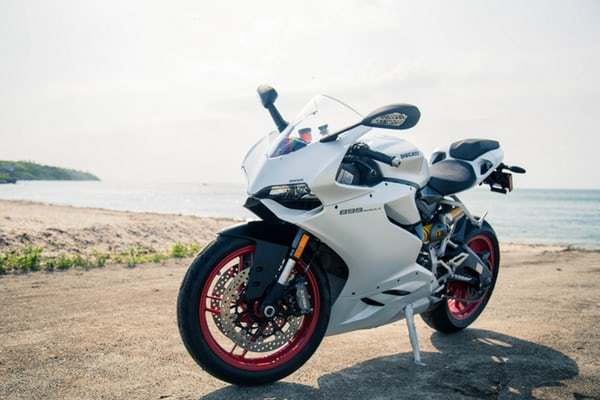12_label: (175, 56, 556, 392)
